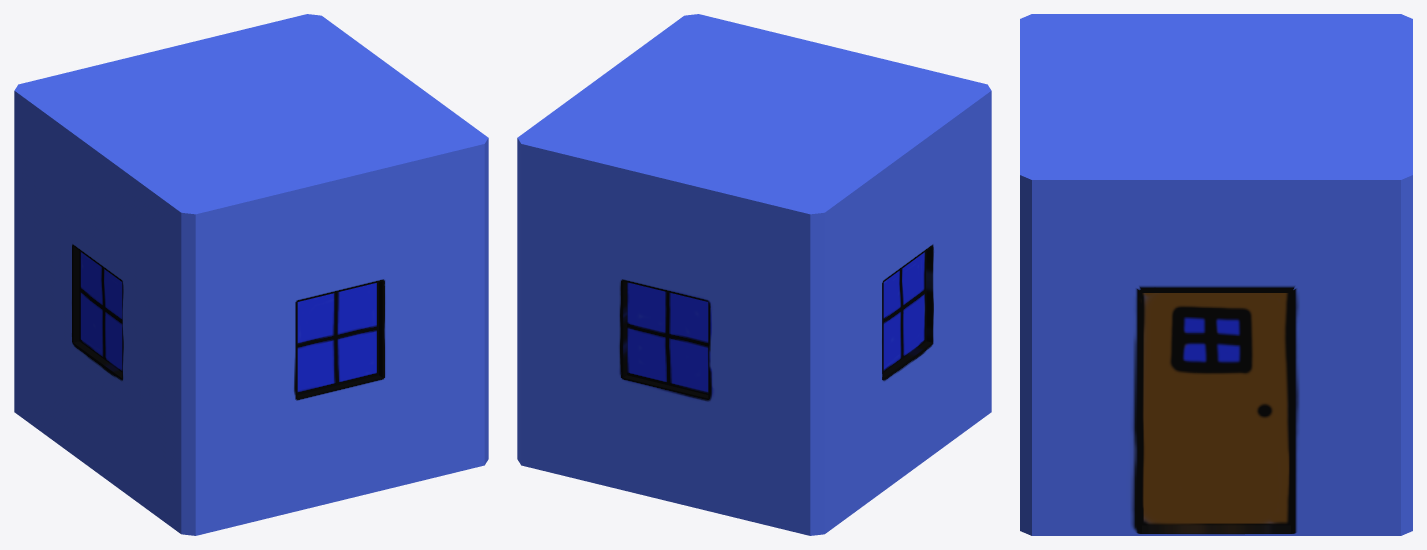
File: DoorBox.glb
3 views of the same model, side by side, from view 1: azimuth 30°, elevation 25°; view 2: azimuth 150°, elevation 25°; view 3: azimuth 270°, elevation 25° (orthographic). The views are drawn at different scales.
Visible parts, largest first — view 1: DoorBox; view 2: DoorBox; view 3: DoorBox.
Part boxes in pixels (x1,y1,x2,y2): DoorBox: (14, 14, 488, 535); DoorBox: (517, 14, 991, 535); DoorBox: (1020, 14, 1412, 535).
Bounding box in the file's own units: 1 × 1 × 1.
Materials: 1 (1 with a texture image).
